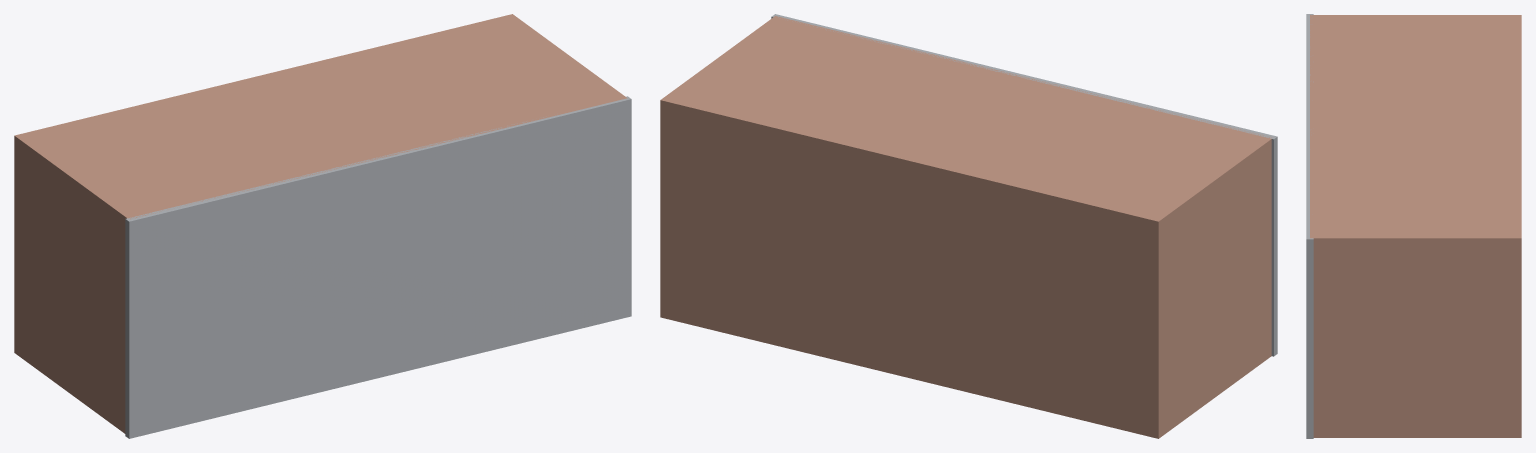
The model's file is container_02.glb.
3 views of the same model, side by side, from view 1: azimuth 30°, elevation 25°; view 2: azimuth 150°, elevation 25°; view 3: azimuth 270°, elevation 25° (orthographic). The views are drawn at different scales.
Parts seen in each view (by area): view 1: Ribs.001, Box.001; view 2: Box.001, Ribs.001; view 3: Box.001, Ribs.001.
Part boxes in pixels (x1=…): Ribs.001: x1=125, y1=96, x2=631, y2=438; Box.001: x1=14, y1=14, x2=627, y2=433; Box.001: x1=660, y1=16, x2=1271, y2=438; Ribs.001: x1=771, y1=14, x2=1277, y2=356; Box.001: x1=1310, y1=15, x2=1521, y2=437; Ribs.001: x1=1306, y1=14, x2=1313, y2=438.
Bounding box in the file's own units: 6.05 × 2.5 × 2.44.
